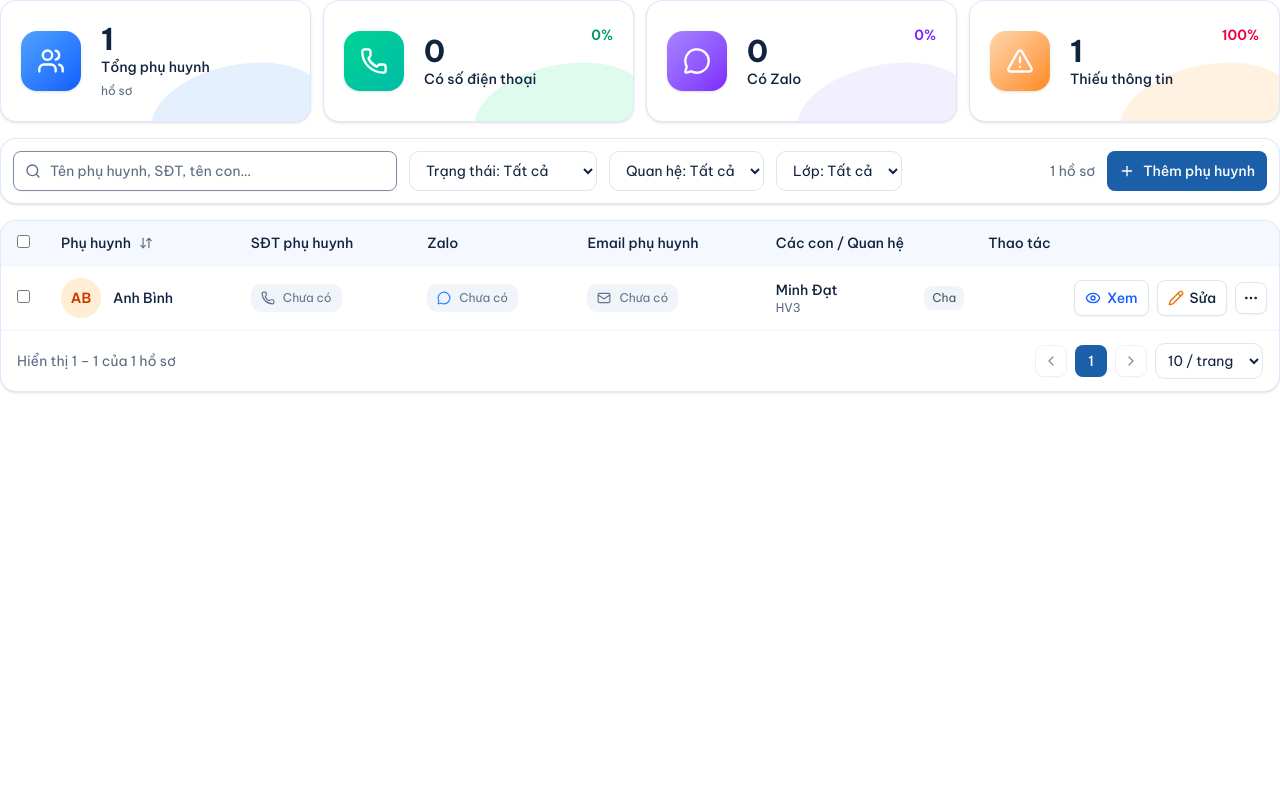
Test: opens zero-count groups with an empty state
The image size is (1280, 800).
Click the button with aria-label "Có Zalo: 0": (802, 61) [646,0,957,122]
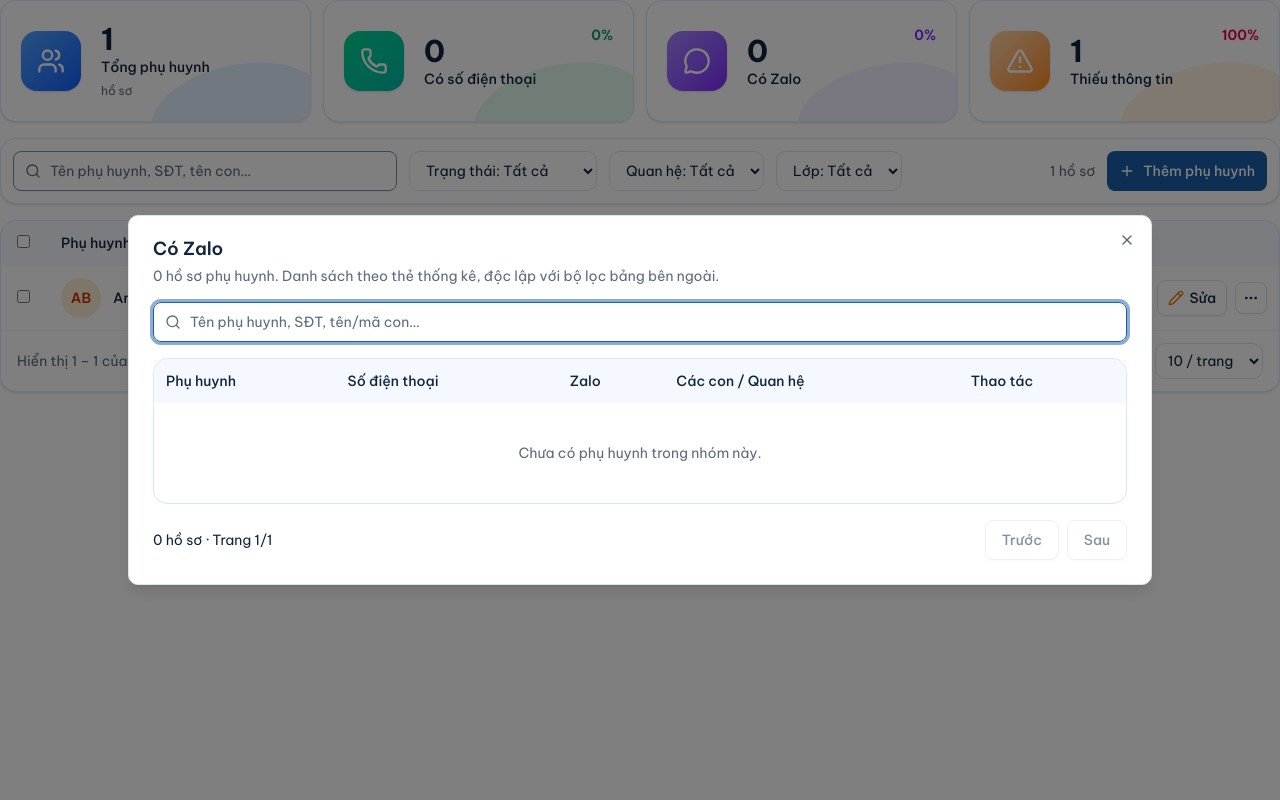
Check: the text "Chưa có phụ huynh trong nhóm này." is shown, box [518,444,762,462]
